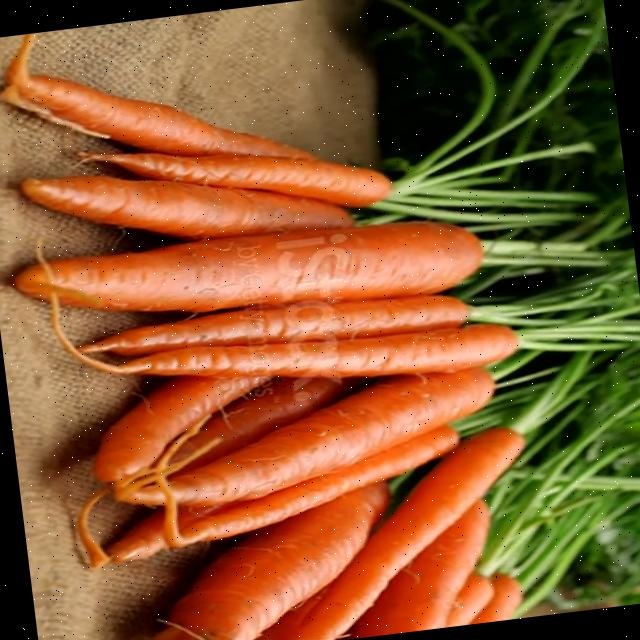carrot: (256, 427, 524, 640), (168, 367, 492, 505), (13, 222, 483, 312), (1, 33, 311, 158), (151, 484, 385, 640), (177, 426, 456, 542), (78, 295, 469, 356), (19, 175, 353, 239), (118, 324, 516, 377), (350, 501, 489, 639), (161, 377, 367, 470), (93, 377, 268, 481), (78, 152, 390, 207), (471, 573, 521, 624), (445, 573, 492, 627)
